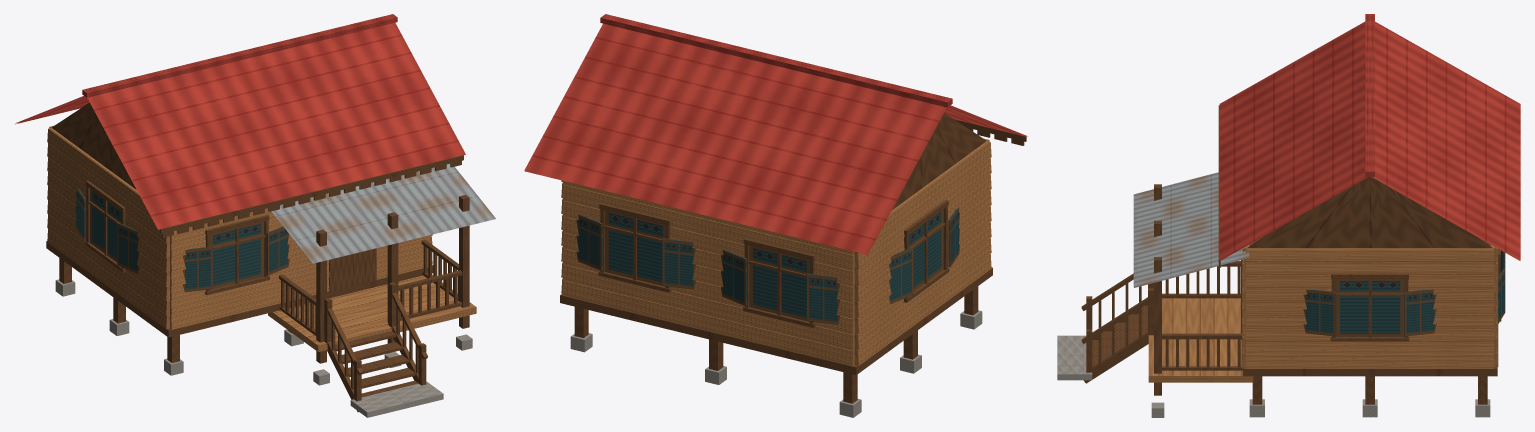
The model's file is rumah_jiran_1.glb.
3 renders of one model, left to right at view 1: azimuth 30°, elevation 25°; view 2: azimuth 150°, elevation 25°; view 3: azimuth 270°, elevation 25°, orthographic. The views are drawn at different scales.
Parts seen in each view (by area): view 1: Rumah_Jiran_1; view 2: Rumah_Jiran_1; view 3: Rumah_Jiran_1.
Part boxes in pixels (x1,y1,x2,y2): Rumah_Jiran_1: (15,14,495,417); Rumah_Jiran_1: (524,14,1027,417); Rumah_Jiran_1: (1057,14,1520,417).
Bounding box in the file's own units: 6.97 × 5.46 × 8.63.
1 material, 1 textured.
